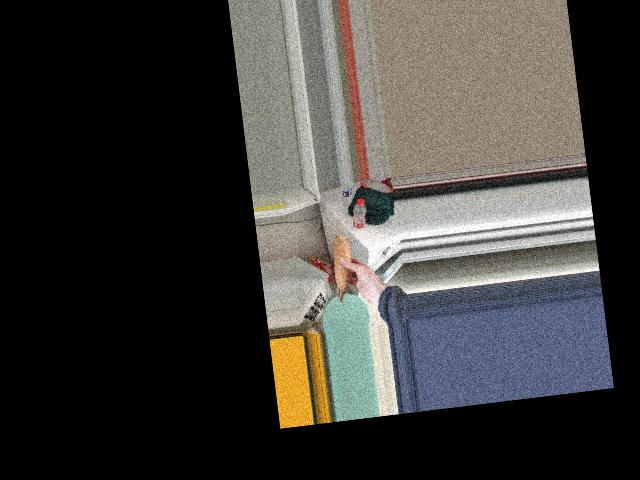sweet_potato: (325, 229, 360, 302)
